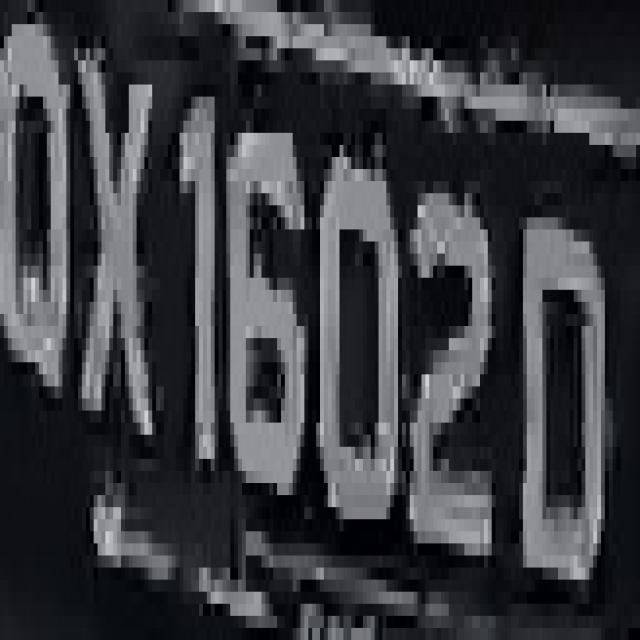0: (316, 133, 406, 519)
1: (188, 85, 218, 519)
2: (414, 169, 504, 592)
6: (215, 97, 312, 556)
D: (515, 181, 621, 628)
Q: (8, 12, 78, 435)
X: (70, 12, 156, 447)
